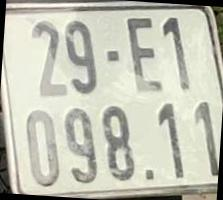-: (107, 49, 120, 64)
.: (144, 167, 154, 181)
0: (26, 110, 61, 187)
1: (194, 100, 219, 179), (164, 14, 190, 89), (159, 101, 184, 179)
2: (30, 20, 67, 96)
8: (101, 103, 135, 180)
9: (65, 106, 98, 184), (66, 20, 97, 95)
E: (126, 16, 164, 92)
